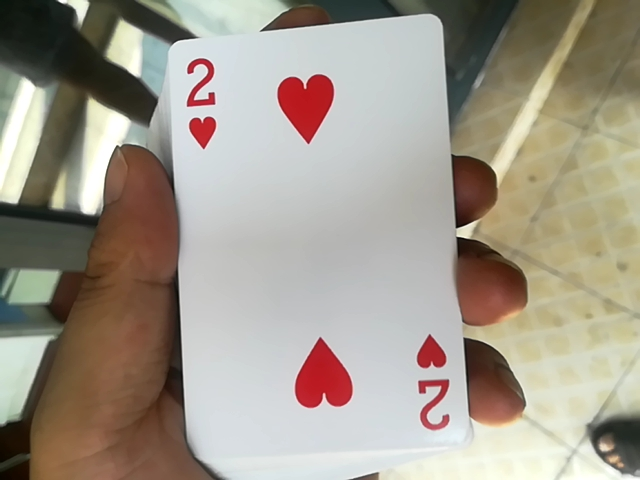hx 2: (153, 25, 456, 455)
